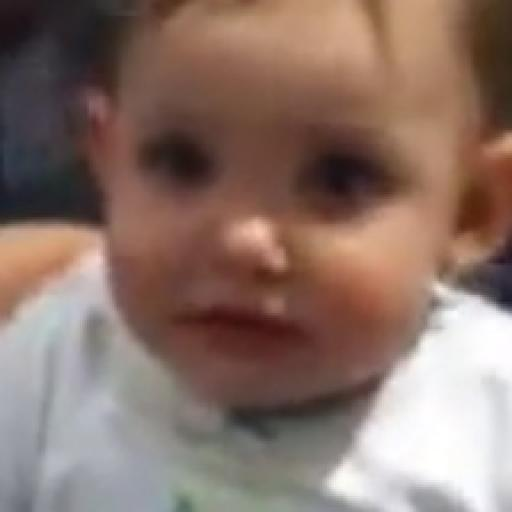Autism: (112, 34, 434, 400)
